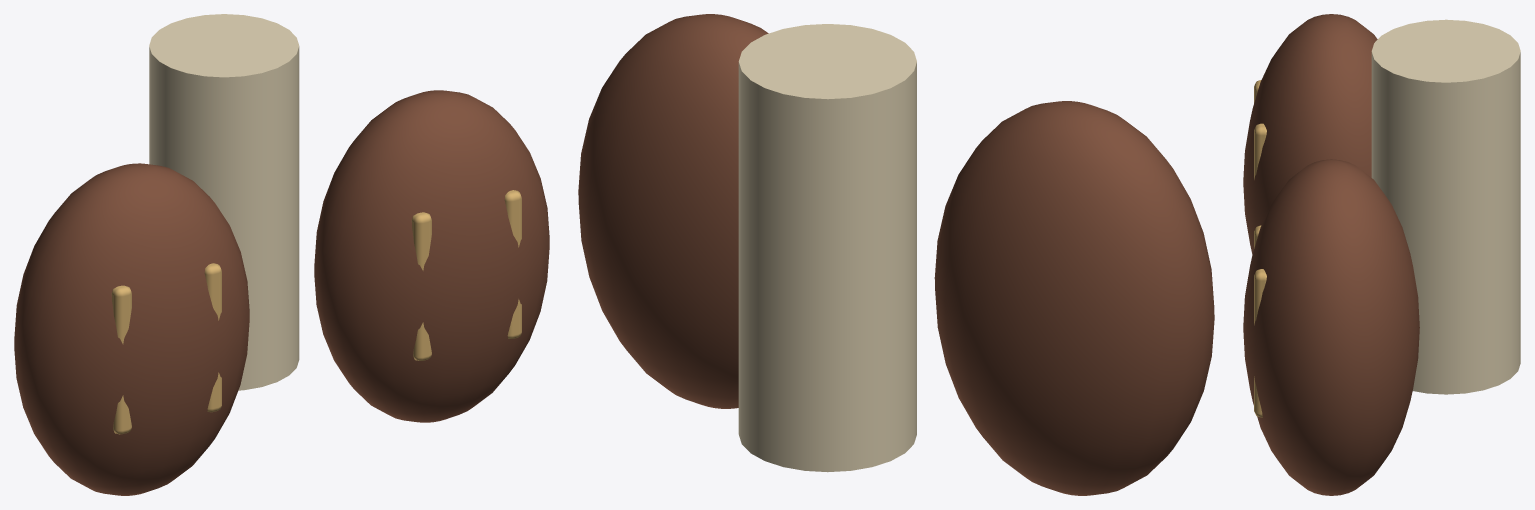
File: adventurers-tavern-and-guild-hall-travelling-pack-pile-dbea7b40__24751.glb
3 views of the same model, side by side, from view 1: azimuth 30°, elevation 25°; view 2: azimuth 150°, elevation 25°; view 3: azimuth 270°, elevation 25° (orthographic). The views are drawn at different scales.
Parts seen in each view (by area): view 1: travelling-pack-pile; view 2: travelling-pack-pile; view 3: travelling-pack-pile.
Part boxes in pixels (bbox=[...]): travelling-pack-pile: bbox=[14, 14, 549, 495]; travelling-pack-pile: bbox=[578, 14, 1214, 495]; travelling-pack-pile: bbox=[1243, 14, 1520, 495].
Size of the model in its own units: 1.04 by 0.7 by 0.484.
